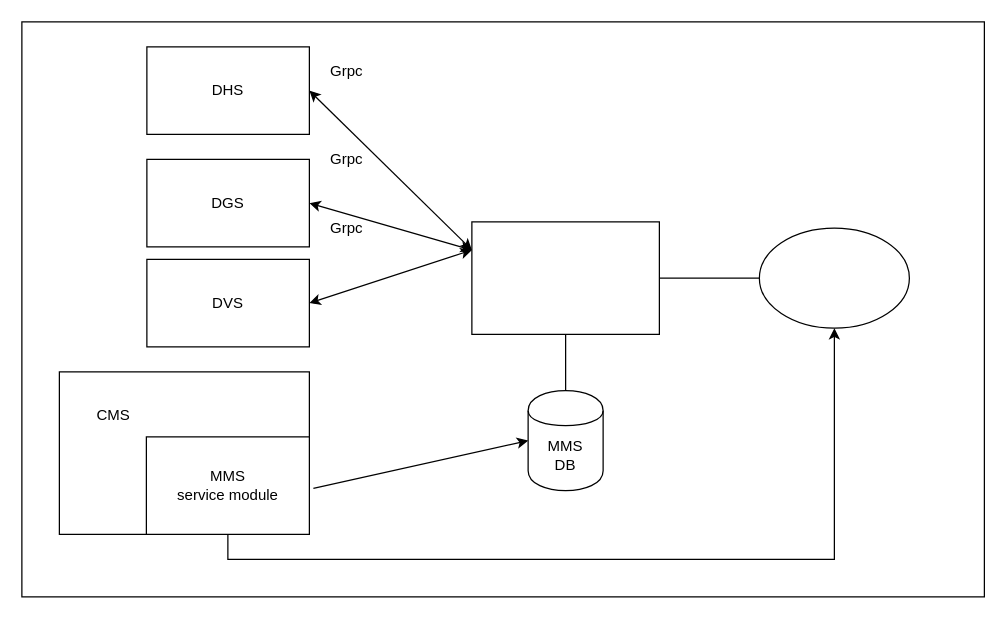
Some shapes in this 1006 by 619 pixel diagram are drawn without their labels. Each missing label, with the centre of its shape:
"MMS service / web module" goes at (x=565, y=277).
"Spark Thrift Server" goes at (x=833, y=277).
